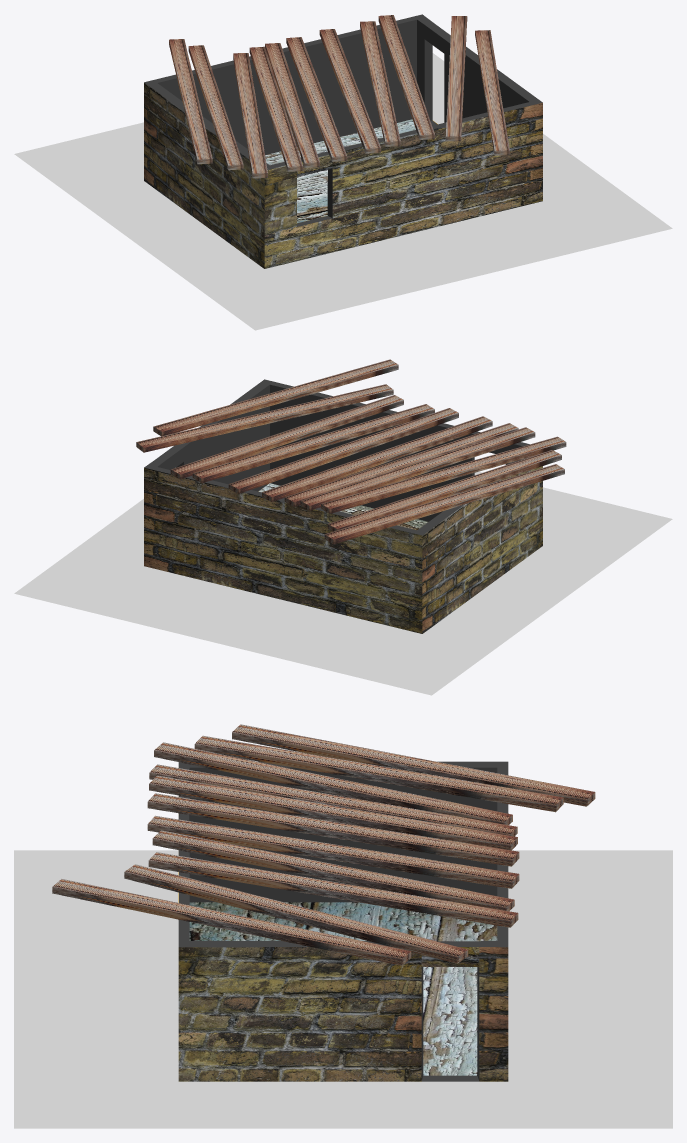
The model's file is Meria1.fbx.
3 views of the same model, one above another, from view 1: azimuth 30°, elevation 25°; view 2: azimuth 150°, elevation 25°; view 3: azimuth 270°, elevation 25° (orthographic). The views are drawn at different scales.
Parts seen in each view (by area): view 1: Plane.001, Plane, Cube.005, Cube.004, Cube.010, Cube.002, Cube.007, Cube.006, Cube.009, Cube.003, Cube, Cube.008 (+1 smaller); view 2: Plane.001, Plane, Cube.001, Cube, Cube.008, Cube.009, Cube.003, Cube.004, Cube.005, Cube.002, Cube.007, Cube.010 (+1 smaller); view 3: Plane, Plane.001, Cube.005, Cube.002, Cube.010, Cube, Cube.004, Cube.006, Cube.001, Cube.003, Cube.008, Cube.009 (+1 smaller).
Boxes of the visible parts, <box> form: Plane.001: <box>144,14,542,268</box>; Plane: <box>14,53,672,330</box>; Cube.005: <box>286,37,347,161</box>; Cube.004: <box>319,29,380,153</box>; Cube.010: <box>188,45,243,170</box>; Cube.002: <box>378,15,434,139</box>; Cube.007: <box>249,46,303,171</box>; Cube.006: <box>265,43,319,167</box>; Cube.009: <box>169,39,212,164</box>; Cube.003: <box>360,21,400,146</box>; Cube: <box>475,30,509,155</box>; Cube.008: <box>233,53,267,178</box>; Plane.001: <box>144,379,542,633</box>; Plane: <box>14,471,672,695</box>; Cube.001: <box>136,384,393,452</box>; Cube: <box>153,359,398,436</box>; Cube.008: <box>321,436,566,513</box>; Cube.009: <box>324,464,564,544</box>; Cube.003: <box>192,404,434,483</box>; Cube.004: <box>228,408,458,493</box>; Cube.005: <box>262,416,492,501</box>; Cube.002: <box>170,395,403,479</box>; Cube.007: <box>300,427,535,510</box>; Cube.010: <box>327,450,561,531</box>; Plane: <box>14,850,672,1128</box>; Plane.001: <box>178,761,508,1081</box>; Cube.005: <box>147,793,519,866</box>; Cube.002: <box>148,852,518,927</box>; Cube.010: <box>194,735,563,812</box>; Cube: <box>52,879,411,965</box>; Cube.004: <box>147,815,519,888</box>; Cube.006: <box>149,775,517,850</box>; Cube.001: <box>124,864,468,963</box>; Cube.003: <box>152,830,514,911</box>; Cube.008: <box>154,742,512,824</box>; Cube.009: <box>232,724,595,806</box>.
Size of the model in its own units: 2400 by 573 by 2400.
